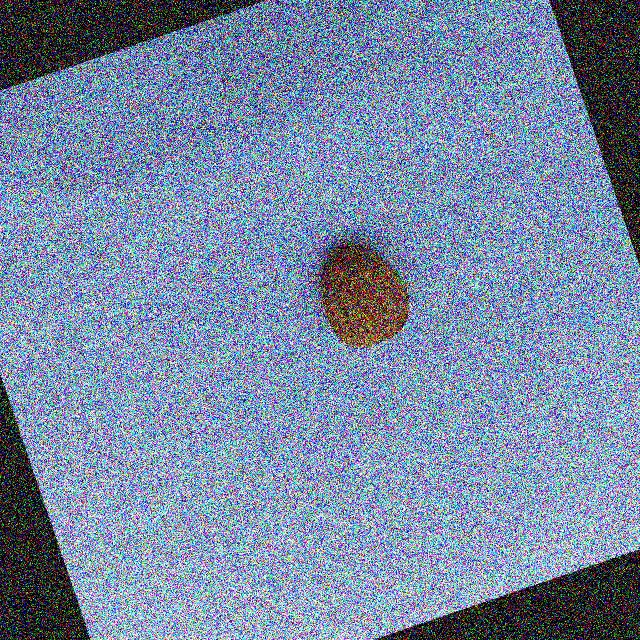grade1: (293, 219, 429, 367)
